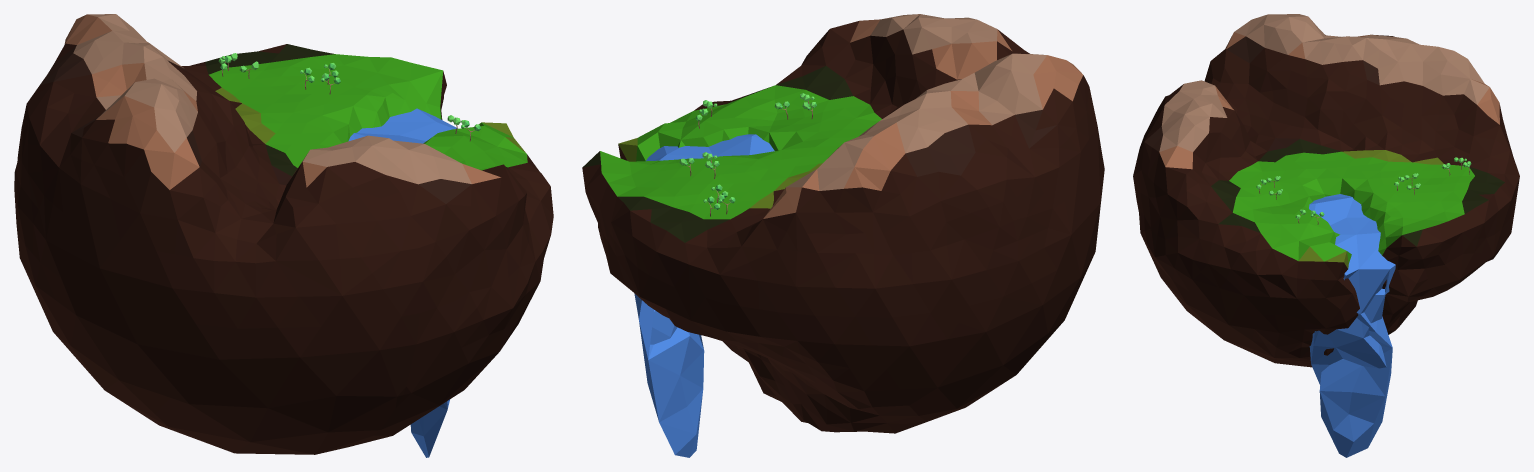
The model's file is island3.fbx.
3 views of the same model, side by side, from view 1: azimuth 30°, elevation 25°; view 2: azimuth 150°, elevation 25°; view 3: azimuth 270°, elevation 25° (orthographic). The views are drawn at different scales.
Parts seen in each view (by area): view 1: Land, Water; view 2: Land, Water; view 3: Land, Water.
Part boxes in pixels (box(x1,y1,x2,y2)): Land: box(14, 14, 553, 454); Water: box(348, 108, 457, 457); Land: box(582, 14, 1104, 433); Water: box(634, 134, 774, 457); Land: box(1133, 14, 1519, 367); Water: box(1309, 194, 1395, 457).
Bounding box in the file's own units: 1982 × 1910 × 1993.
